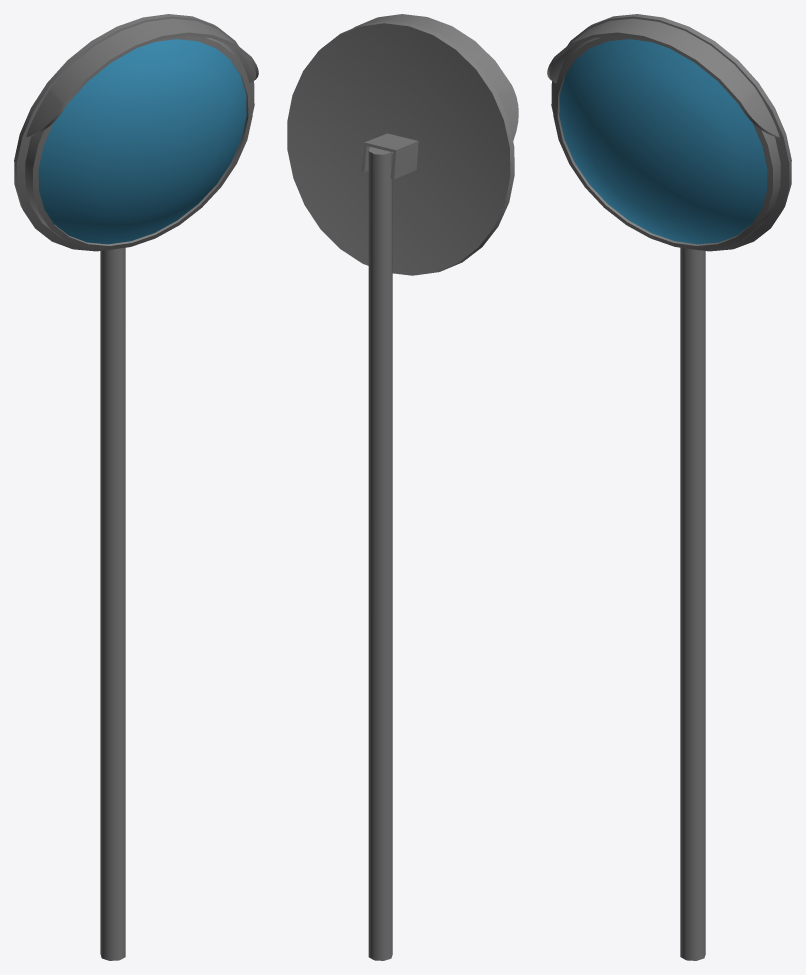
The model's file is SM_mirror_round_02.fbx.
3 renders of one model, left to right at view 1: azimuth 30°, elevation 25°; view 2: azimuth 150°, elevation 25°; view 3: azimuth 330°, elevation 25°, orthographic. The views are drawn at different scales.
Visible parts, largest first — view 1: Object32680; view 2: Object32680; view 3: Object32680.
Boxes of the visible parts, box(x1,y1,x2,y2) form: Object32680: box(14, 14, 258, 960); Object32680: box(287, 14, 518, 960); Object32680: box(547, 14, 791, 960).
Bounding box in the file's own units: 34.15 × 132 × 14.06.
